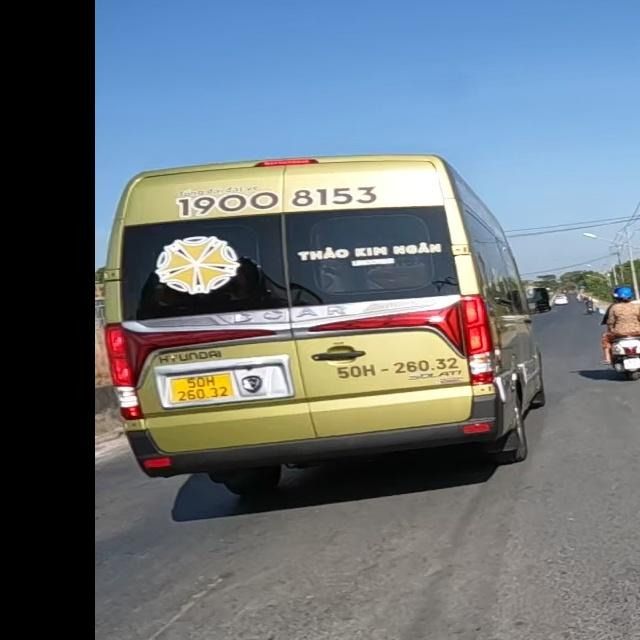license-plate: (170, 372, 235, 402), (623, 356, 640, 371)
